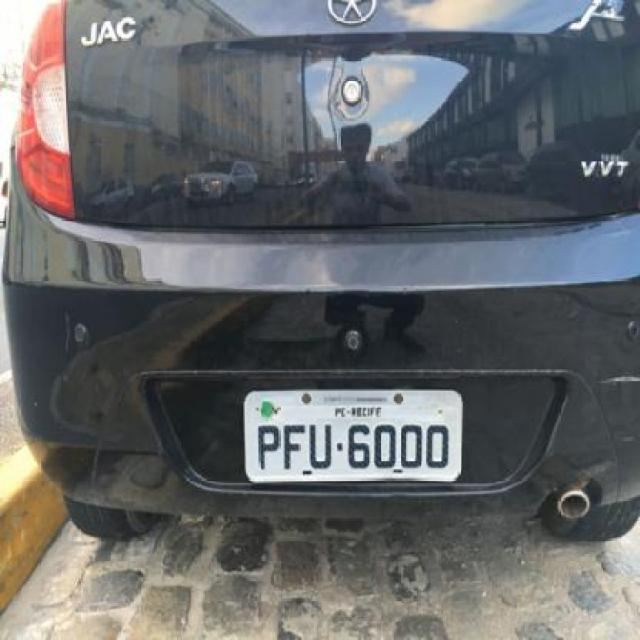old_plate: (235, 383, 477, 487)
